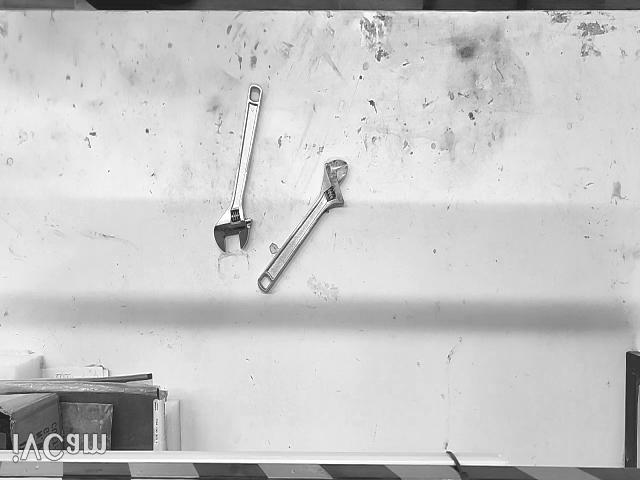Adjustable spanner: (258, 158, 349, 293), (214, 85, 262, 252)
